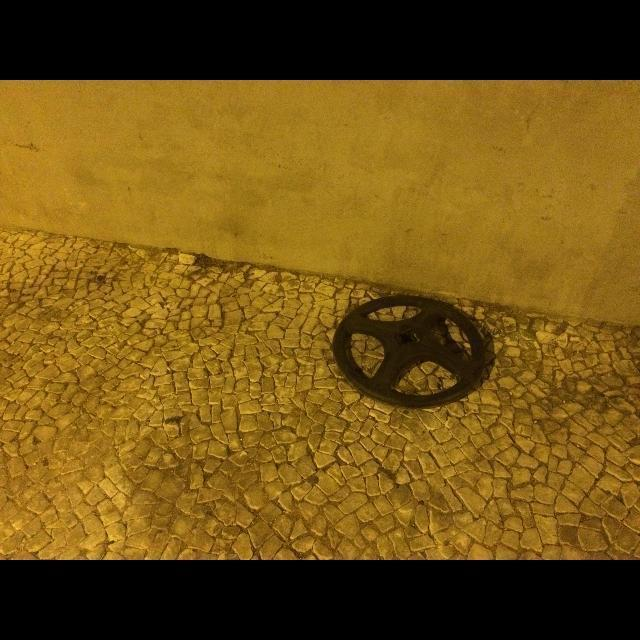Plastic: (332, 295, 486, 409)
